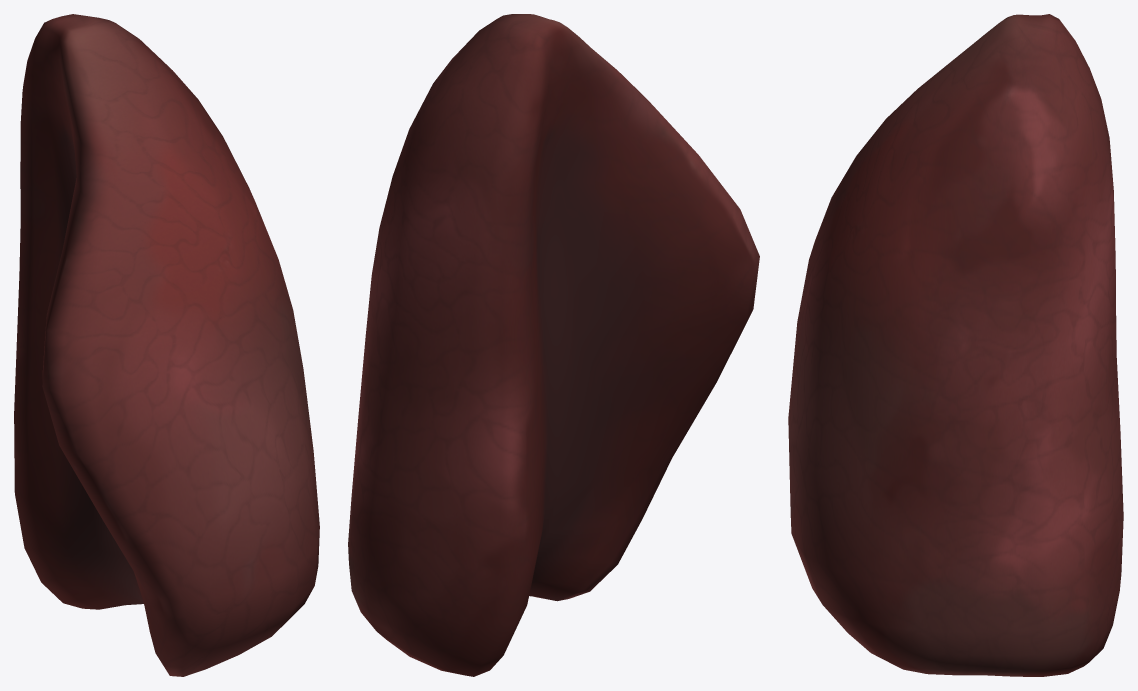
Rendered from lungs_text_test.fbx.
3 renders of one model, left to right at view 1: azimuth 30°, elevation 25°; view 2: azimuth 150°, elevation 25°; view 3: azimuth 270°, elevation 25°, orthographic. The views are drawn at different scales.
Visible parts, largest first — view 1: L_Lobe; view 2: L_Lobe; view 3: L_Lobe.
Boxes of the visible parts, x1,y1,x2,y2 form: L_Lobe: [14, 14, 319, 676]; L_Lobe: [348, 14, 759, 676]; L_Lobe: [788, 14, 1123, 676].
Size of the model in its own units: 144 by 280 by 140.
